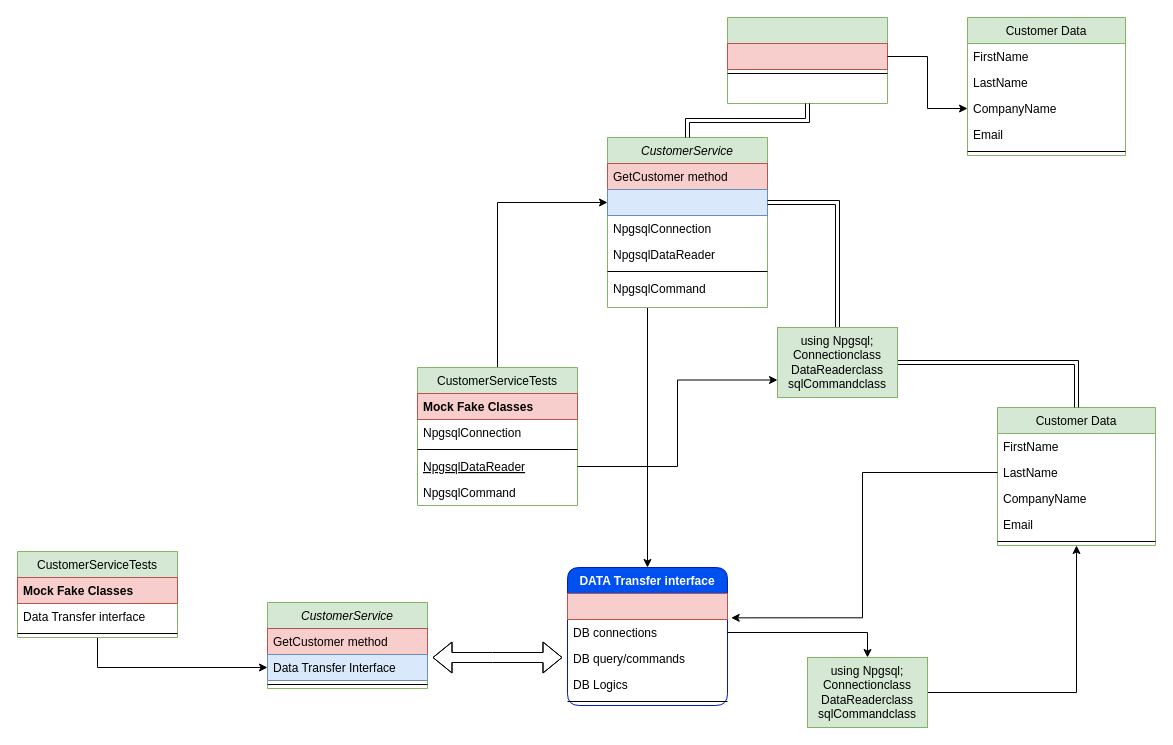
Some shapes in this 1173 by 745 pixel diagram are drawn without their labels. Each missing label, with the box of its shape:
Data transfer methods: (566, 592, 728, 620)
DB-Connections: (606, 188, 768, 216)
GetCustomer method call: (726, 42, 888, 70)
Lambda Funtion: (726, 16, 888, 104)
